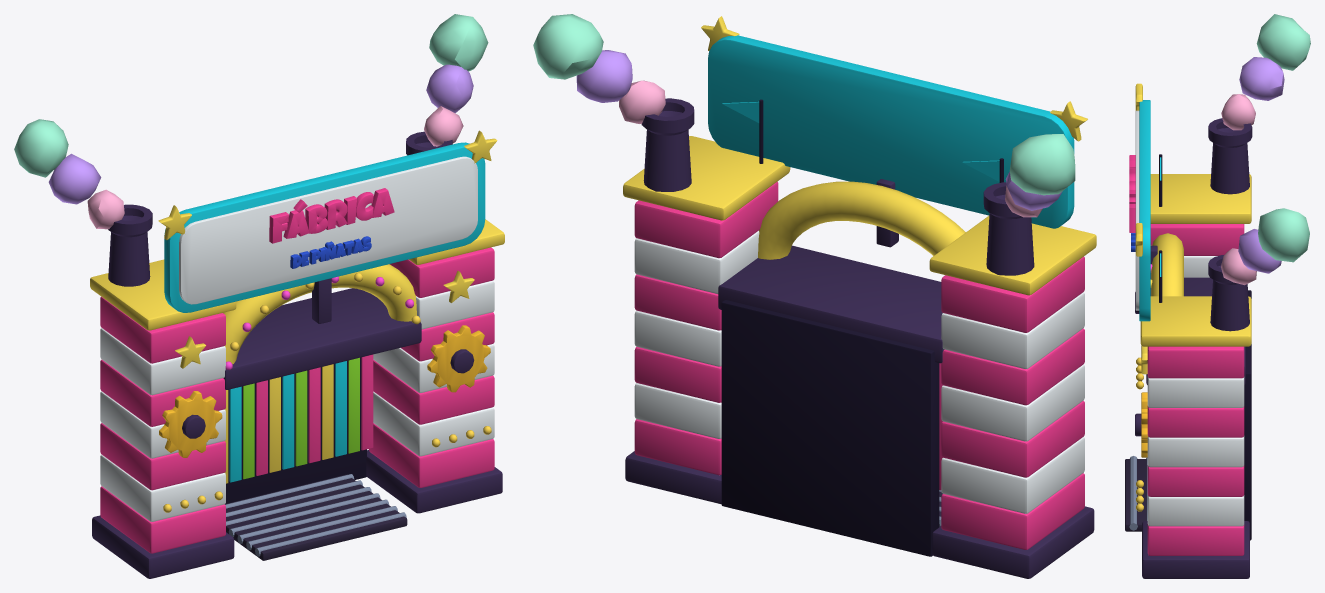
File: lobby_fabrica_gate.fbx
3 renders of one model, left to right at view 1: azimuth 30°, elevation 25°; view 2: azimuth 150°, elevation 25°; view 3: azimuth 270°, elevation 25°, orthographic. The views are drawn at different scales.
Visible parts, largest first — view 1: lobby_fabrica_gate, lobby_fabrica_gate_Sign, lobby_fabrica_gate_Neon; view 2: lobby_fabrica_gate, lobby_fabrica_gate_Sign; view 3: lobby_fabrica_gate, lobby_fabrica_gate_Sign, lobby_fabrica_gate_Neon.
Boxes of the visible parts, x1,y1,x2,y2 form: lobby_fabrica_gate: (14, 14, 504, 578); lobby_fabrica_gate_Sign: (158, 130, 497, 312); lobby_fabrica_gate_Neon: (163, 273, 491, 512); lobby_fabrica_gate: (533, 14, 1096, 578); lobby_fabrica_gate_Sign: (701, 16, 1087, 228); lobby_fabrica_gate: (1125, 14, 1310, 578); lobby_fabrica_gate_Sign: (1129, 83, 1150, 321); lobby_fabrica_gate_Neon: (1136, 245, 1152, 511).
Size of the model in its own units: 35.4 by 29.96 by 13.08.
Materials: 2 (2 with a texture image).
